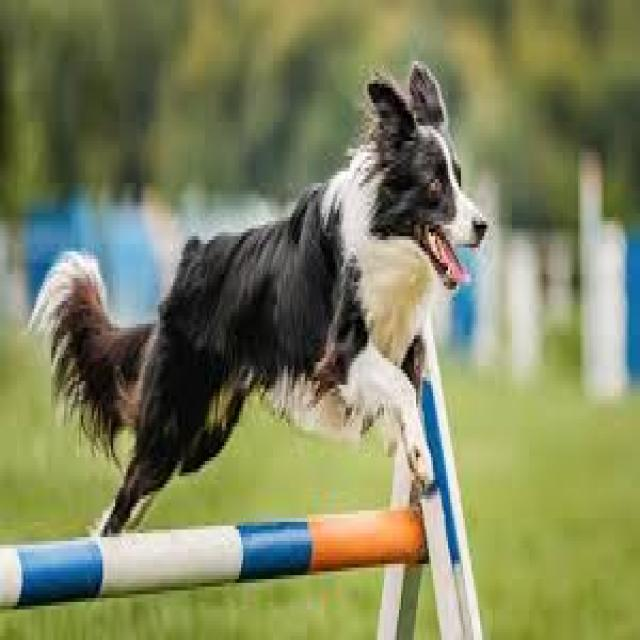ALASKAN_MALAMUTE: (29, 44, 498, 605)
